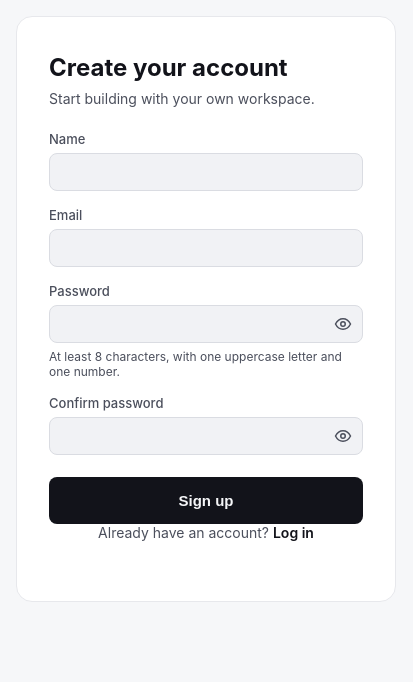
it: Register — password strength validation › blocks submission and explains a too-short password
The image size is (413, 682).
Type "Ada Lovelace" into the field labelled "Name" at (206, 172), box [49, 153, 363, 191]
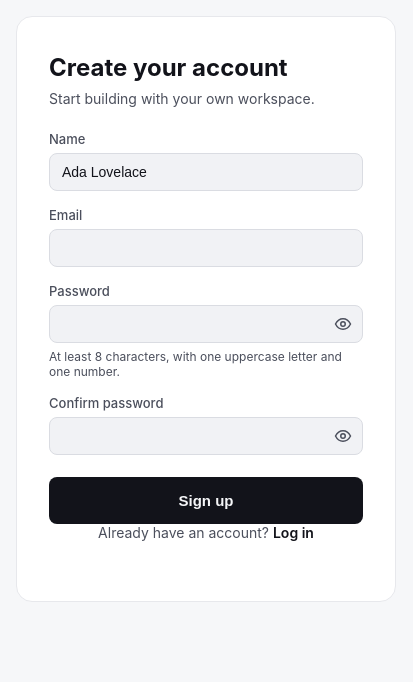
Type "ada@example.com" into the field labelled "Email" at (206, 248), box [49, 229, 363, 267]
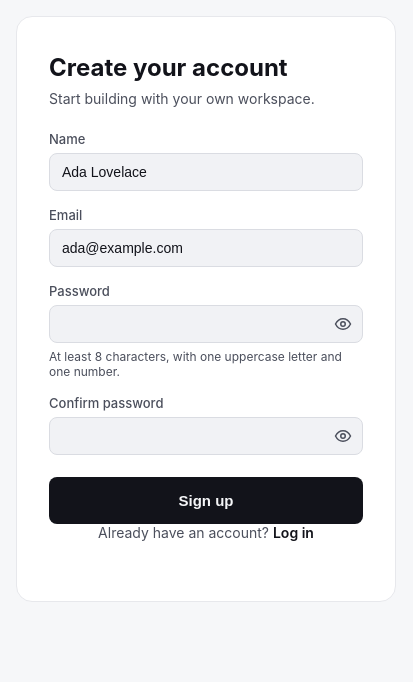
Type "Ab1" into the password field labelled "Password" at (206, 324), box [49, 305, 363, 343]
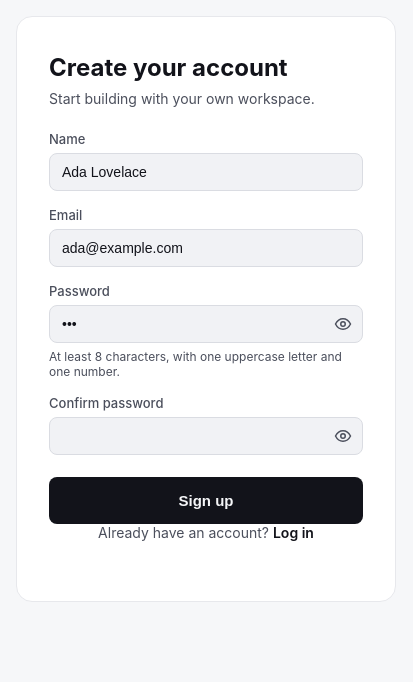
Type "Ab1" into the password field labelled "Confirm password" at (206, 436), box [49, 417, 363, 455]
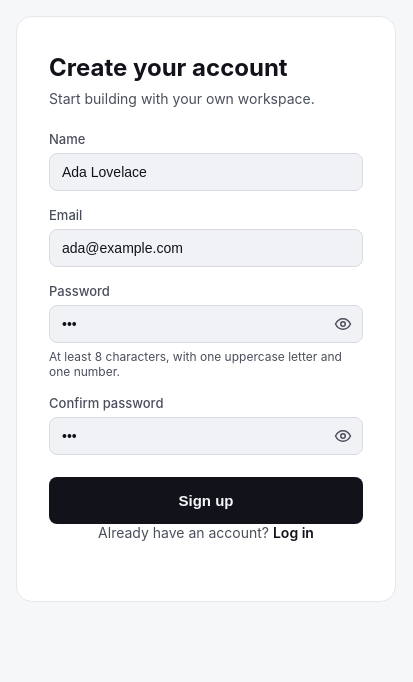
Click the button "Sign up" at (206, 500), box [49, 477, 363, 524]
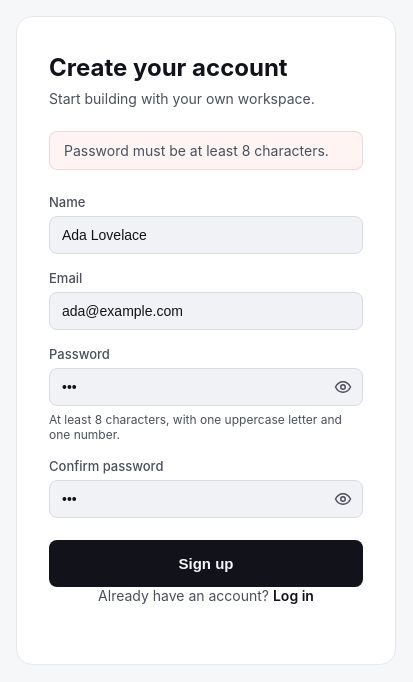
Check: the text "Password must be at least 8 characters." is shown, box [49, 131, 363, 170]
